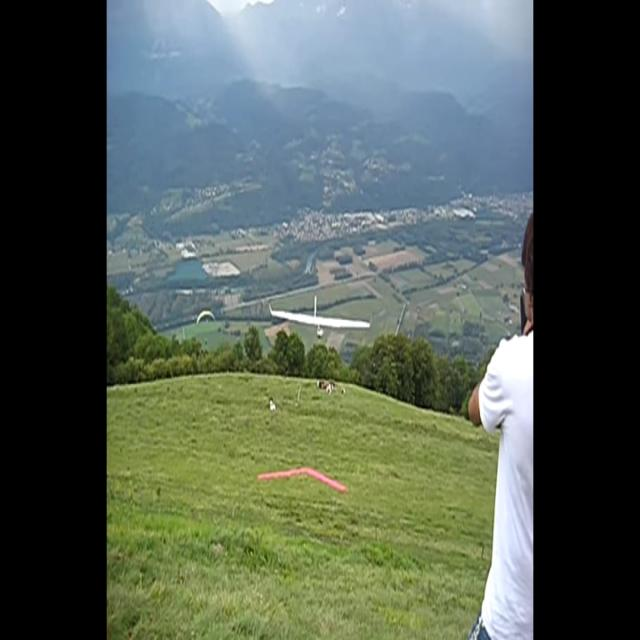iha: (297, 295, 339, 340)
